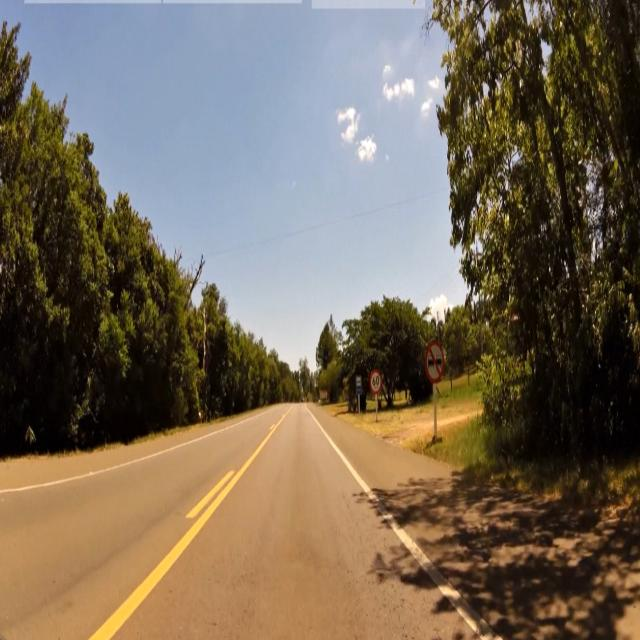R-7: (424, 338, 445, 386)
